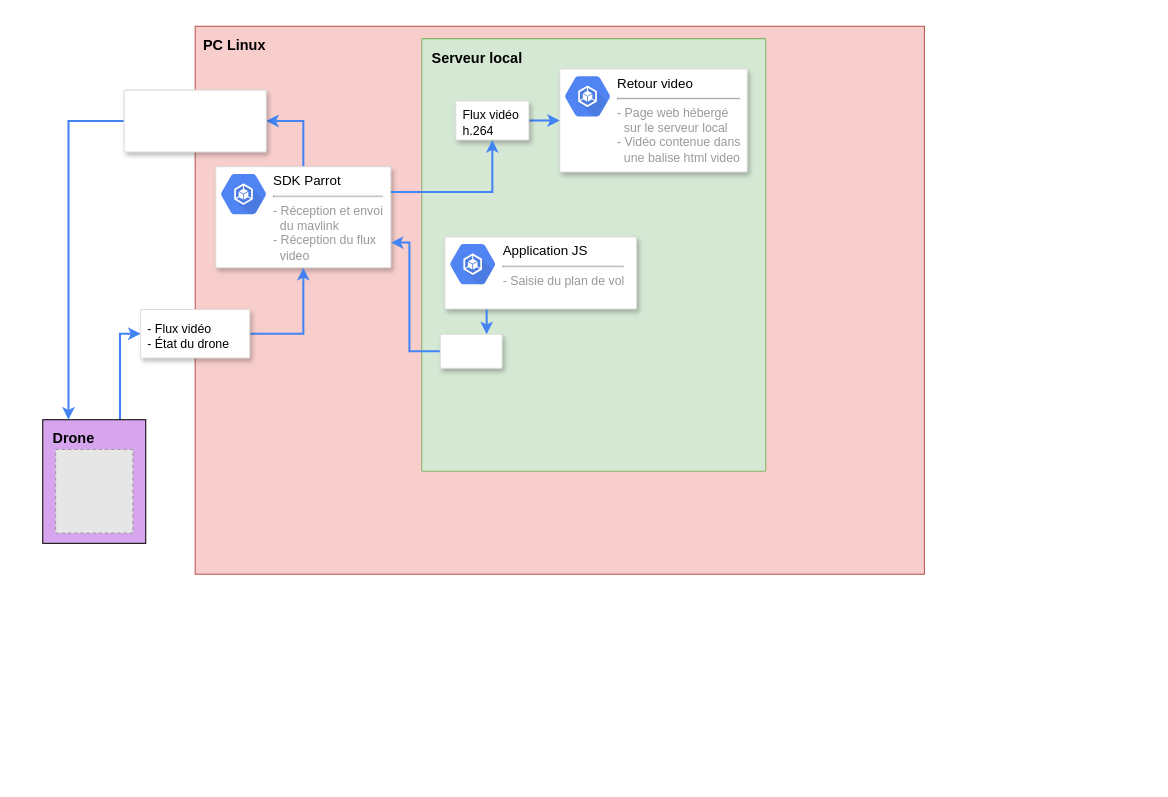
Some shapes in this 1168 by 797 pixel diagram are drawn without their labels. Grey dashed boxes stand in for pictures. The shapes that lost their labels are listed below. From the top down, each one's centre as x and y in pixels, then its label:
At point (195, 122): "- Connexion au drone - Exécution plan de vol - Arrêt urgence".
At point (471, 352): "Fichier MavLink".
